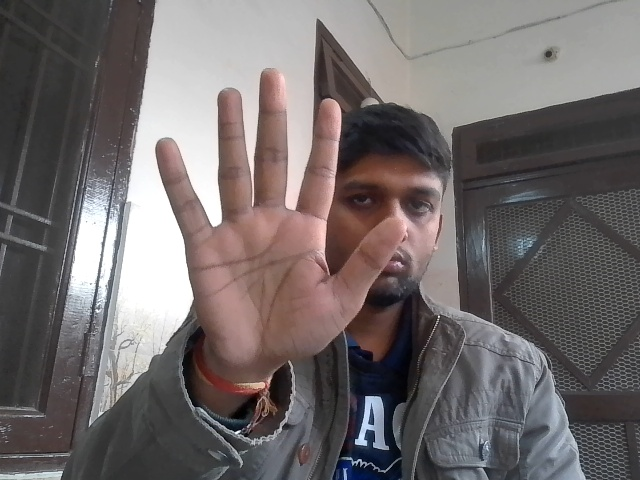Hello: (144, 61, 406, 382)
